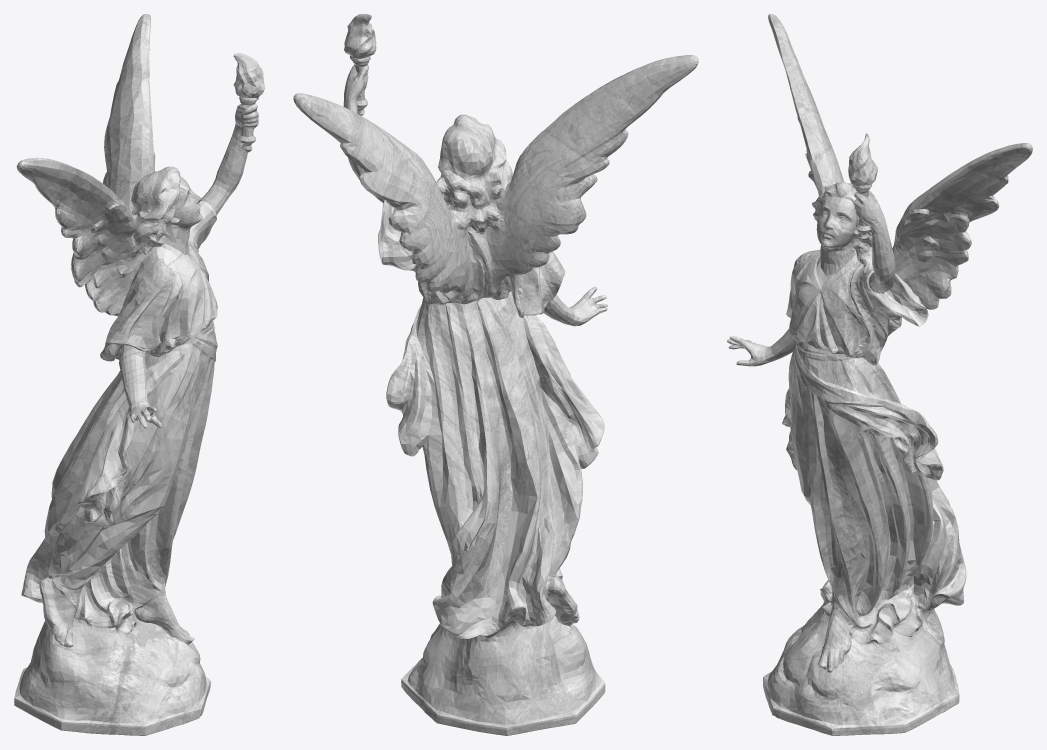
Rendered from uploads_files_72531_Winged_Victory.obj.
The picture shows the model from 3 angles, left to right: view 1: azimuth 30°, elevation 25°; view 2: azimuth 150°, elevation 25°; view 3: azimuth 270°, elevation 25°; orthographic projection. The views are drawn at different scales.
Visible parts, largest first — view 1: Winged_Victory; view 2: Winged_Victory; view 3: Winged_Victory.
Part boxes in pixels (x1,y1,x2,y2): Winged_Victory: [14, 14, 264, 735]; Winged_Victory: [293, 14, 698, 735]; Winged_Victory: [727, 14, 1032, 735].
Size of the model in its own units: 159 by 321 by 143.
Materials: 1 (1 with a texture image).
